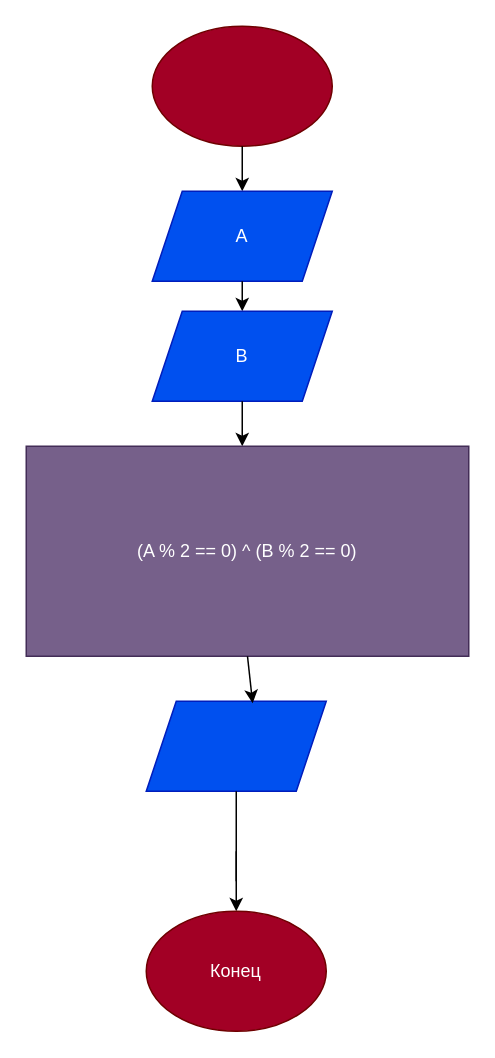
Some shapes in this 495 by 1058 pixel diagram are drawn without their labels. The centre of each missing label's shape, as x and y in pixels:
"Налево" belongs at point (235, 745).
"Начало" belongs at point (241, 85).
